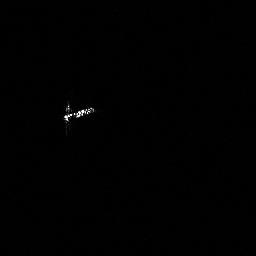ship: (60, 101, 96, 129)
